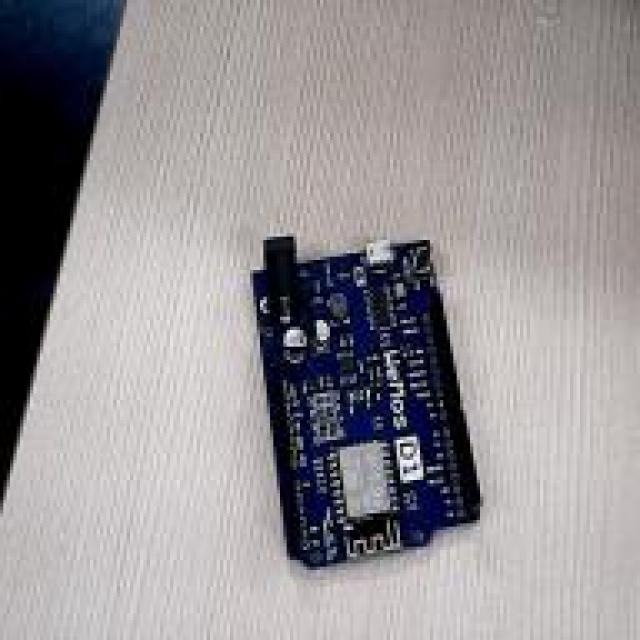Wemos: (254, 238, 478, 564)
